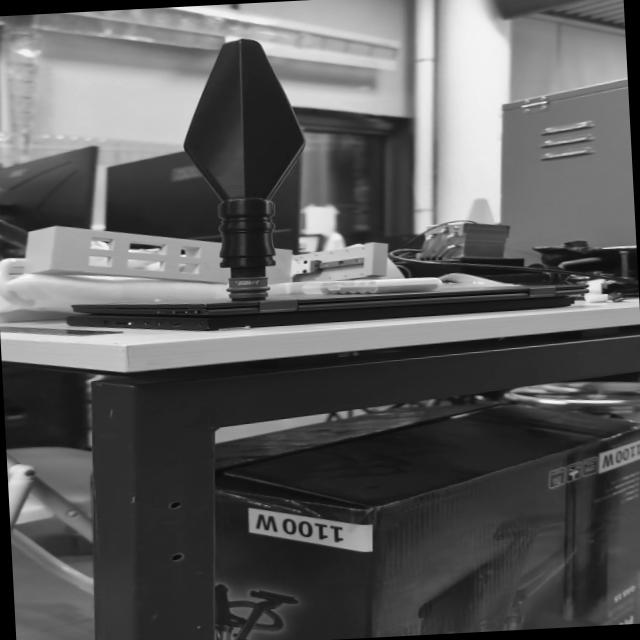base: (228, 276, 270, 302)
